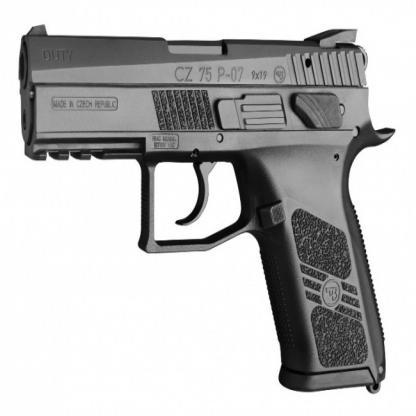gun: (0, 8, 398, 397)
